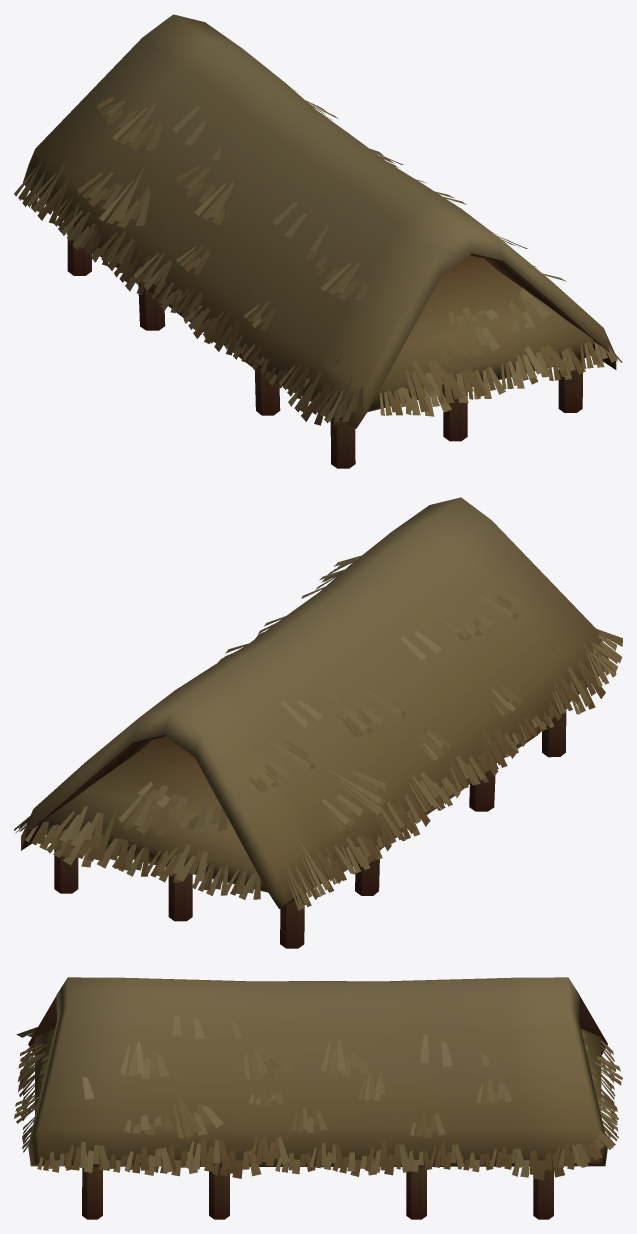
File: SM_Farmer_House_01.fbx
The picture shows the model from 3 angles, top to bottom: view 1: azimuth 30°, elevation 25°; view 2: azimuth 150°, elevation 25°; view 3: azimuth 270°, elevation 25°; orthographic projection. The views are drawn at different scales.
Parts seen in each view (by area): view 1: SM_Farmer_House_01; view 2: SM_Farmer_House_01; view 3: SM_Farmer_House_01.
Part boxes in pixels (x1,y1,x2,y2): SM_Farmer_House_01: (14, 14, 622, 468); SM_Farmer_House_01: (14, 497, 622, 948); SM_Farmer_House_01: (14, 977, 622, 1219).
Bounding box in the file's own units: 6.86 × 4.92 × 14.38.
